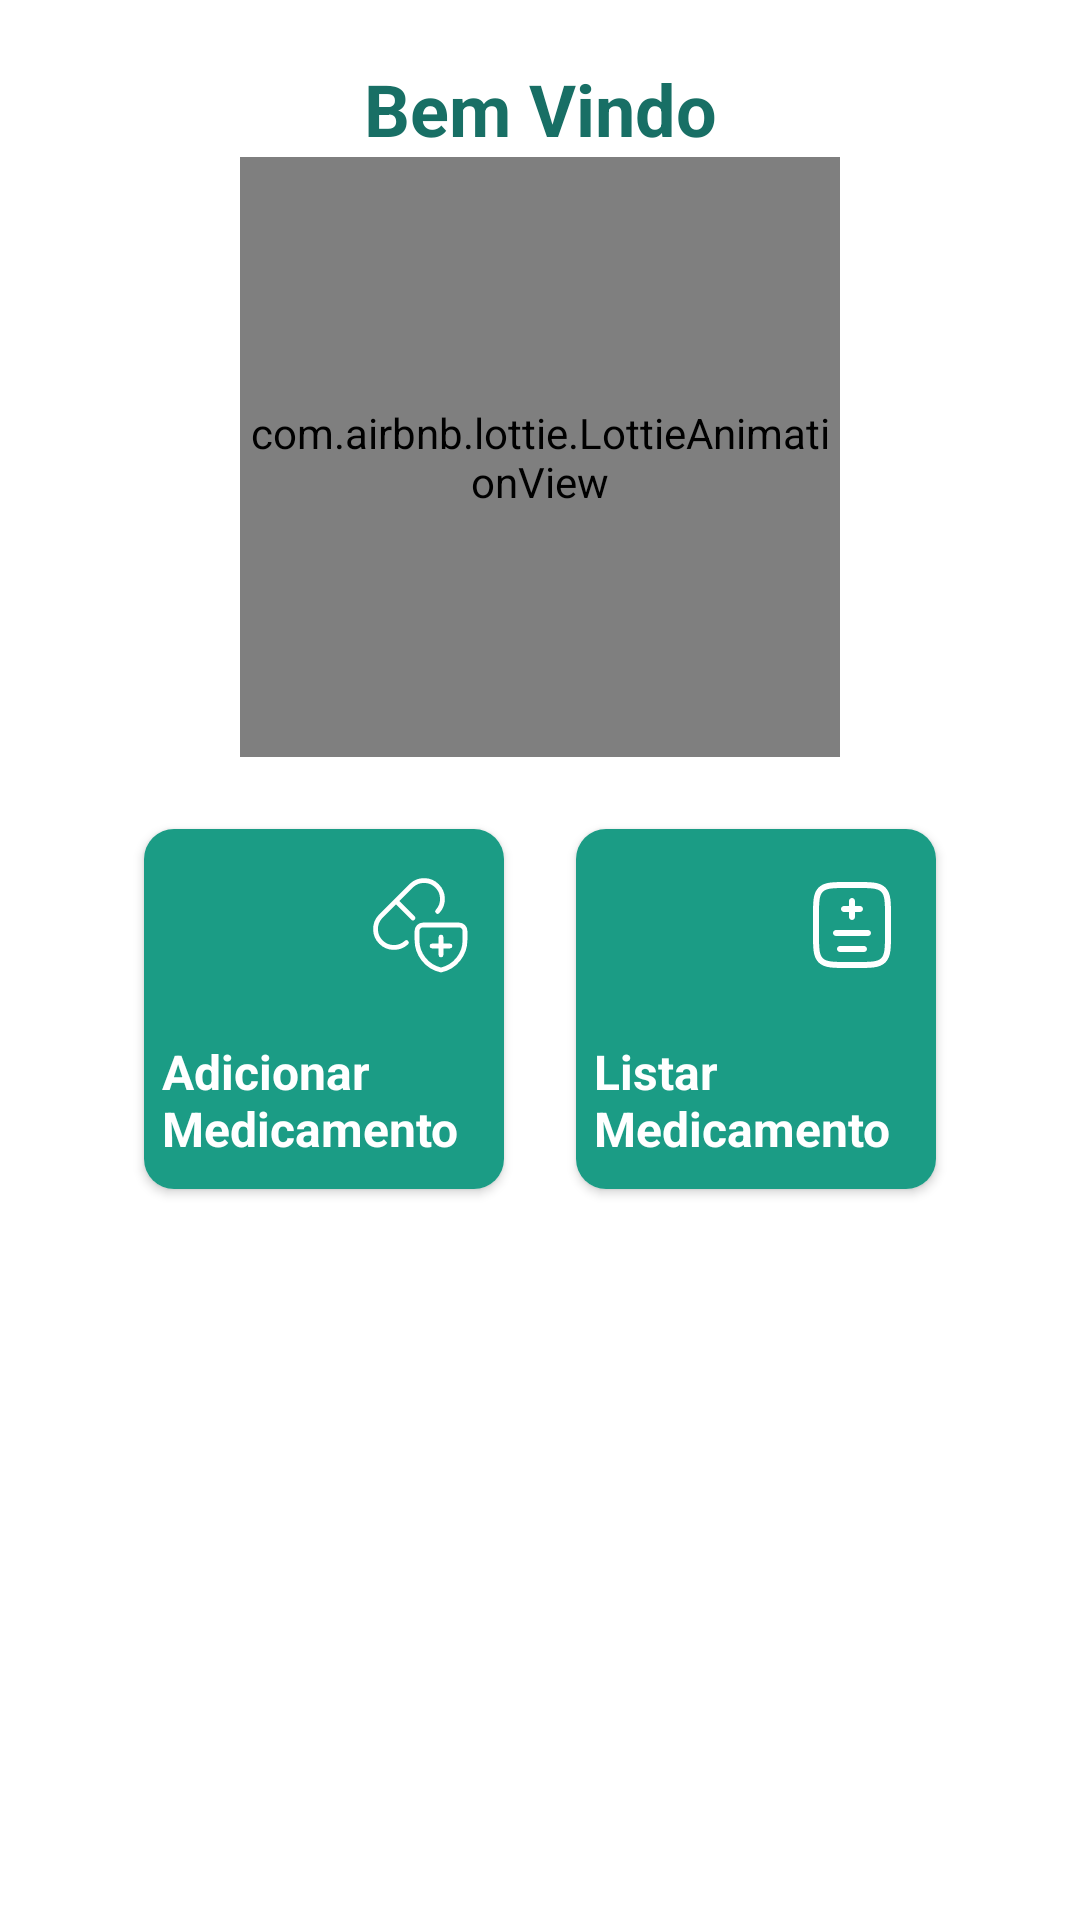

Icons on this 1080*1920 Android screen, each with its box as (x1, y1, x2, y2):
add medicine: (373, 878, 468, 973)
